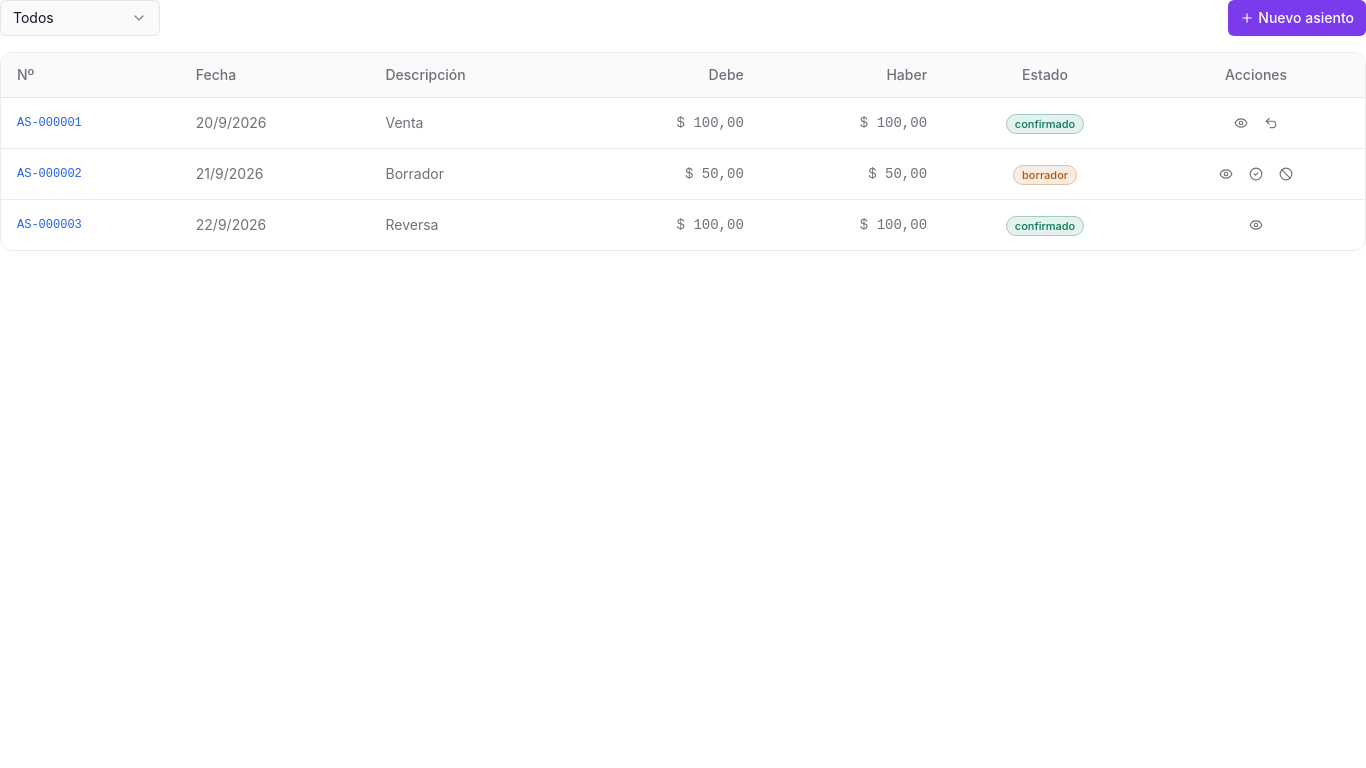
it: TabAsientos — reversar un asiento confirmado (mig.410) › exige un motivo de al menos 5 caracteres antes de habilitar el botón
Step 1. Click the button named "Reversar asiento AS-000001" → (1271, 123), box [1258, 110, 1284, 136]
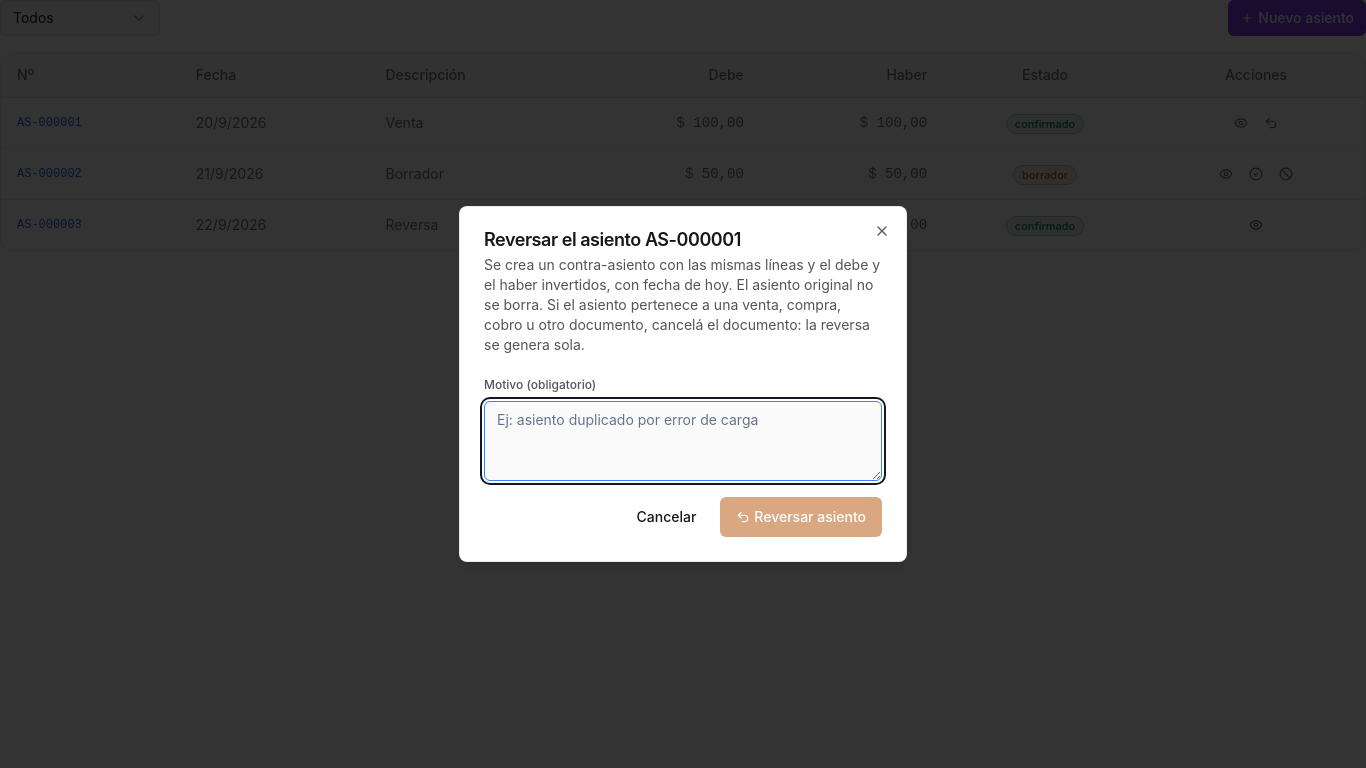
Check: the button "Reversar asiento" is disabled, box [720, 497, 882, 537]
Step 2. Type "abc" into the text box labelled "Motivo (obligatorio)" → (683, 441), box [484, 401, 882, 481]
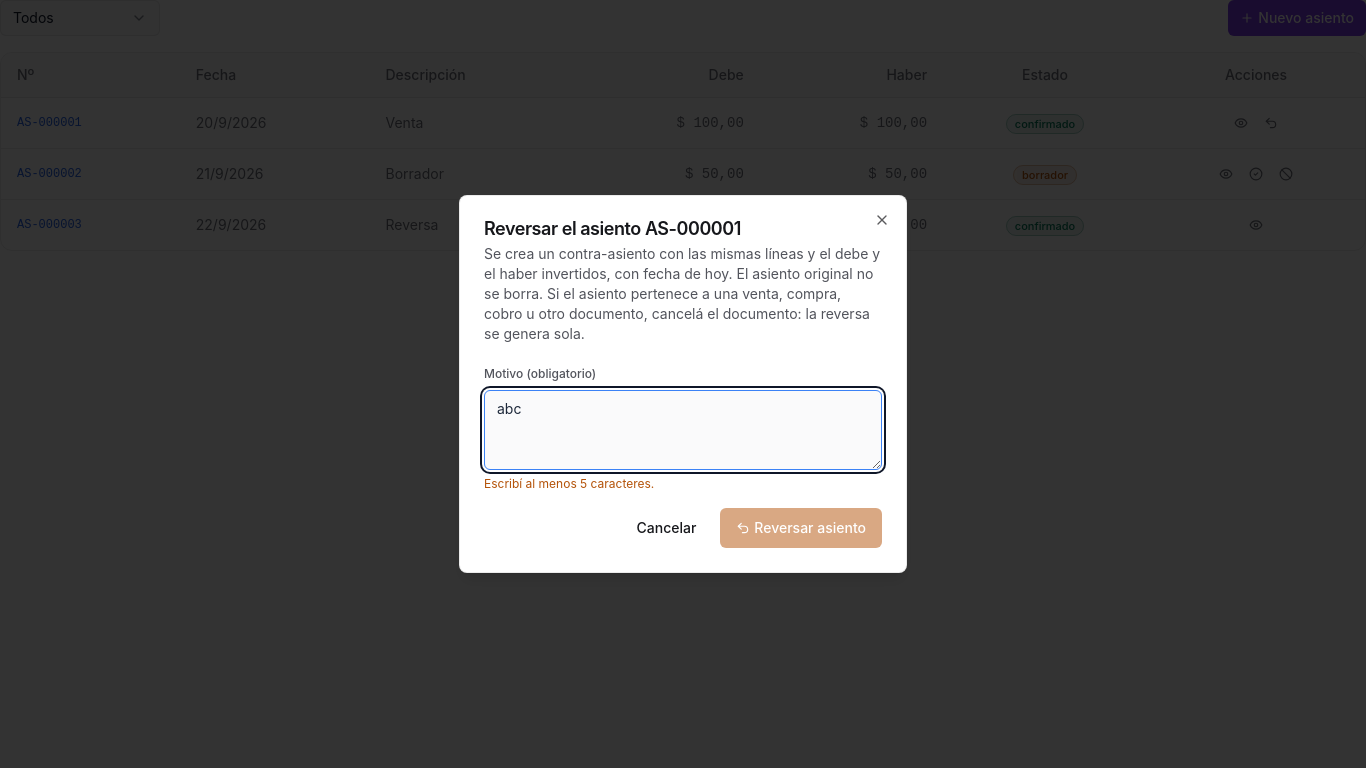
Check: the button "Reversar asiento" is disabled, box [720, 508, 882, 548]
Check: the text "Escribí al menos 5 caracteres." is shown, box [484, 476, 654, 491]
Step 3. Replace the text in the text box labelled "Motivo (obligatorio)" with "duplicado por error" → (683, 430), box [484, 390, 882, 470]
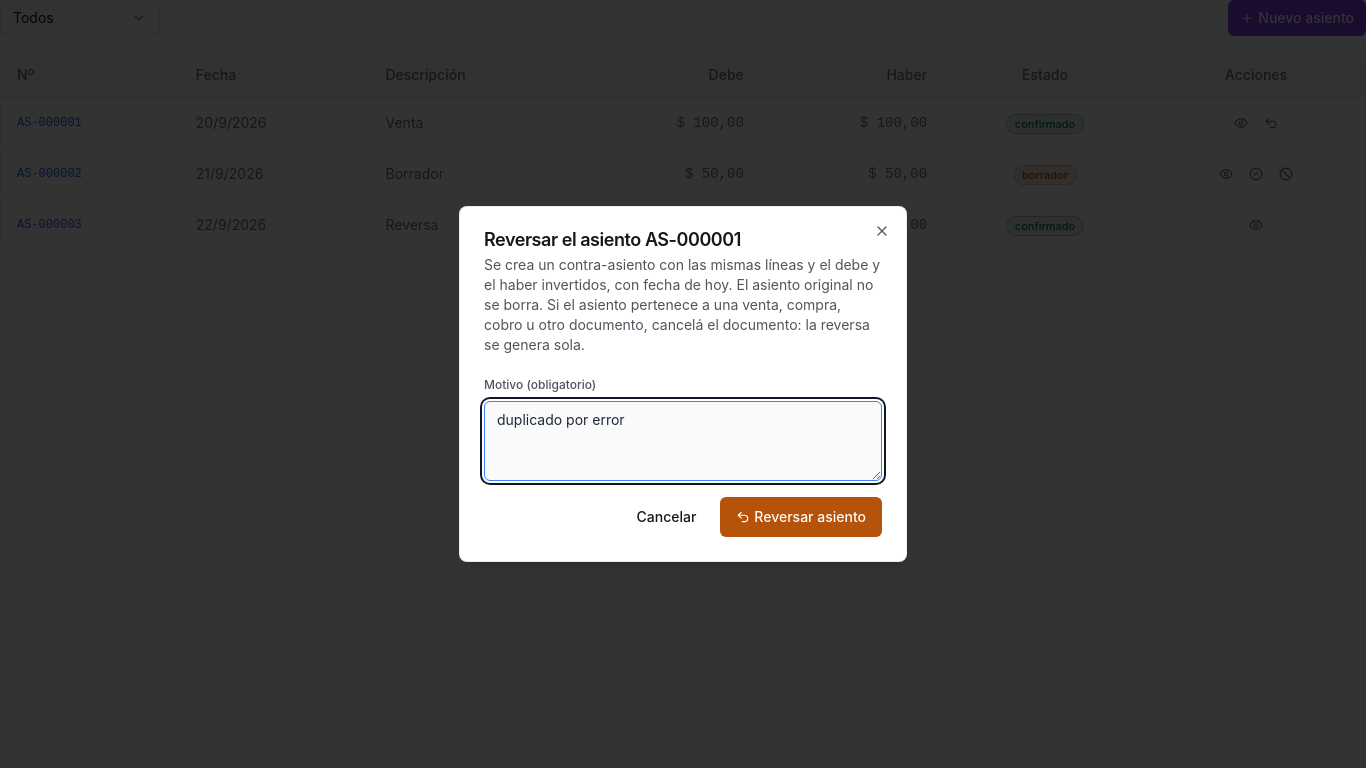
Check: the button "Reversar asiento" is enabled, box [720, 497, 882, 537]
